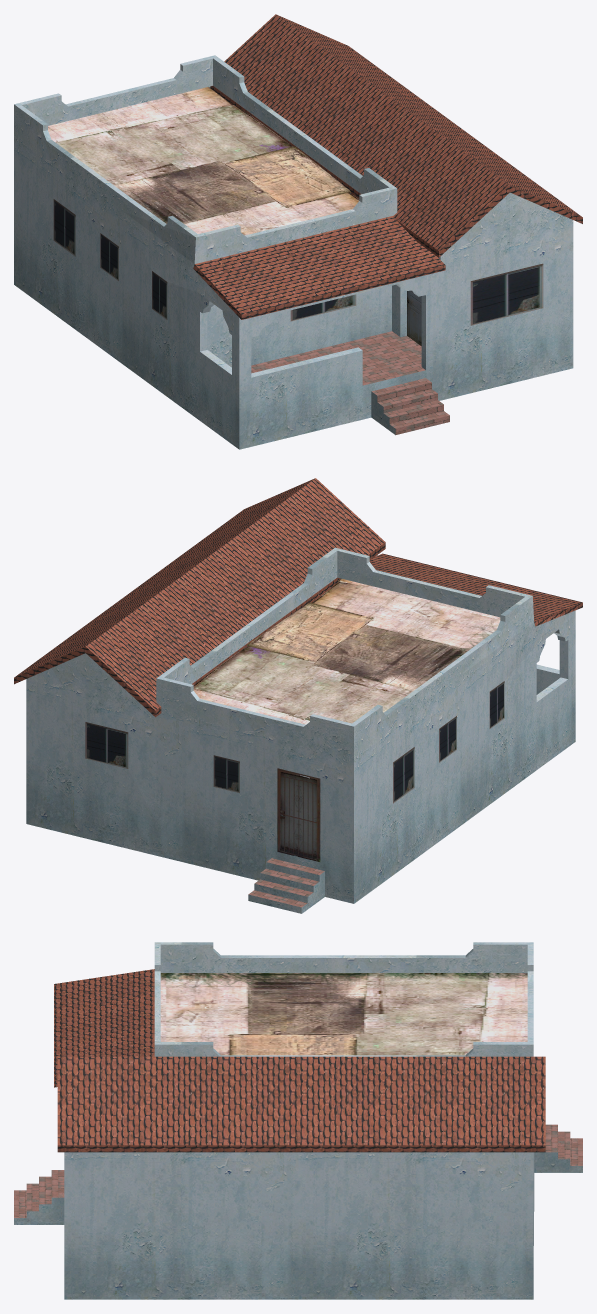
The model's file is glenphouse03_lax.obj.
The picture shows the model from 3 angles, top to bottom: view 1: azimuth 30°, elevation 25°; view 2: azimuth 150°, elevation 25°; view 3: azimuth 270°, elevation 25°; orthographic projection. The views are drawn at different scales.
Parts seen in each view (by area): view 1: GlenPHouse03_LAx; view 2: GlenPHouse03_LAx; view 3: GlenPHouse03_LAx.
Boxes of the visible parts, x1,y1,x2,y2 form: GlenPHouse03_LAx: (14, 14, 582, 449); GlenPHouse03_LAx: (14, 478, 582, 913); GlenPHouse03_LAx: (14, 942, 582, 1299).
Bounding box in the file's own units: 10.55 × 5.91 × 14.55.
